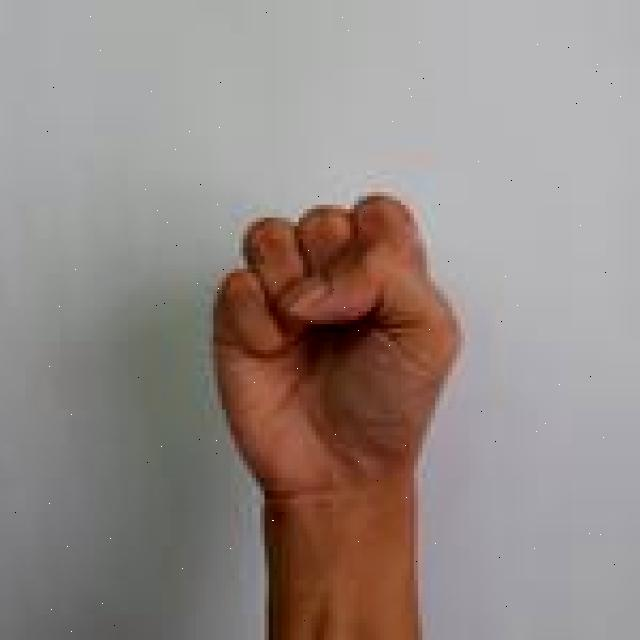S: (206, 189, 472, 640)
